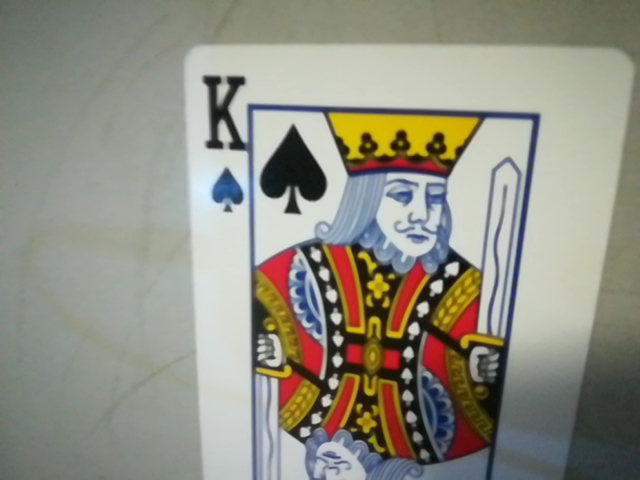ht k: (194, 59, 257, 217)
